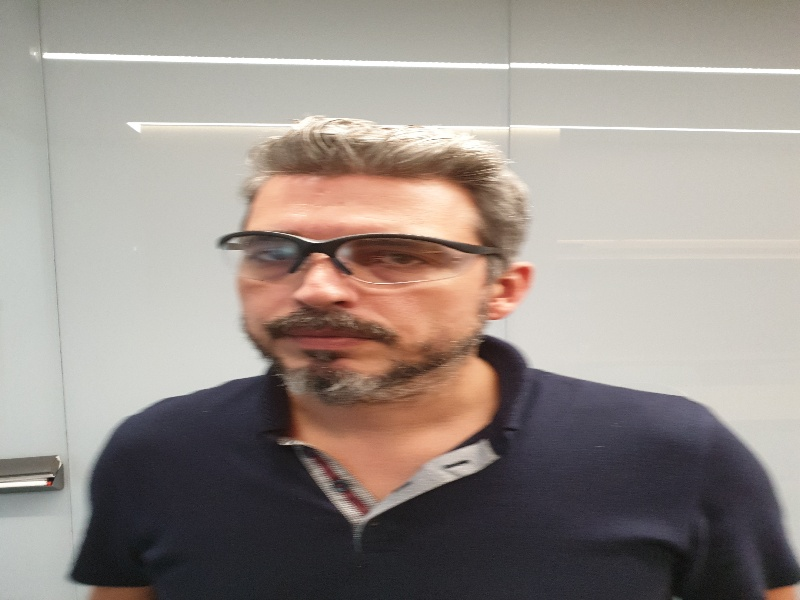Gozluk: (220, 232, 499, 287)
